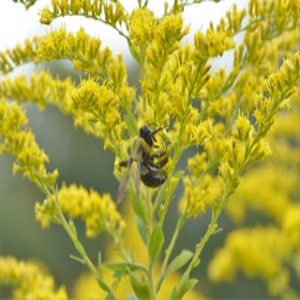bee: (118, 121, 170, 207)
